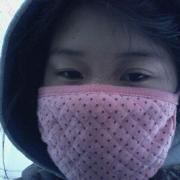OK: (32, 42, 178, 178)
